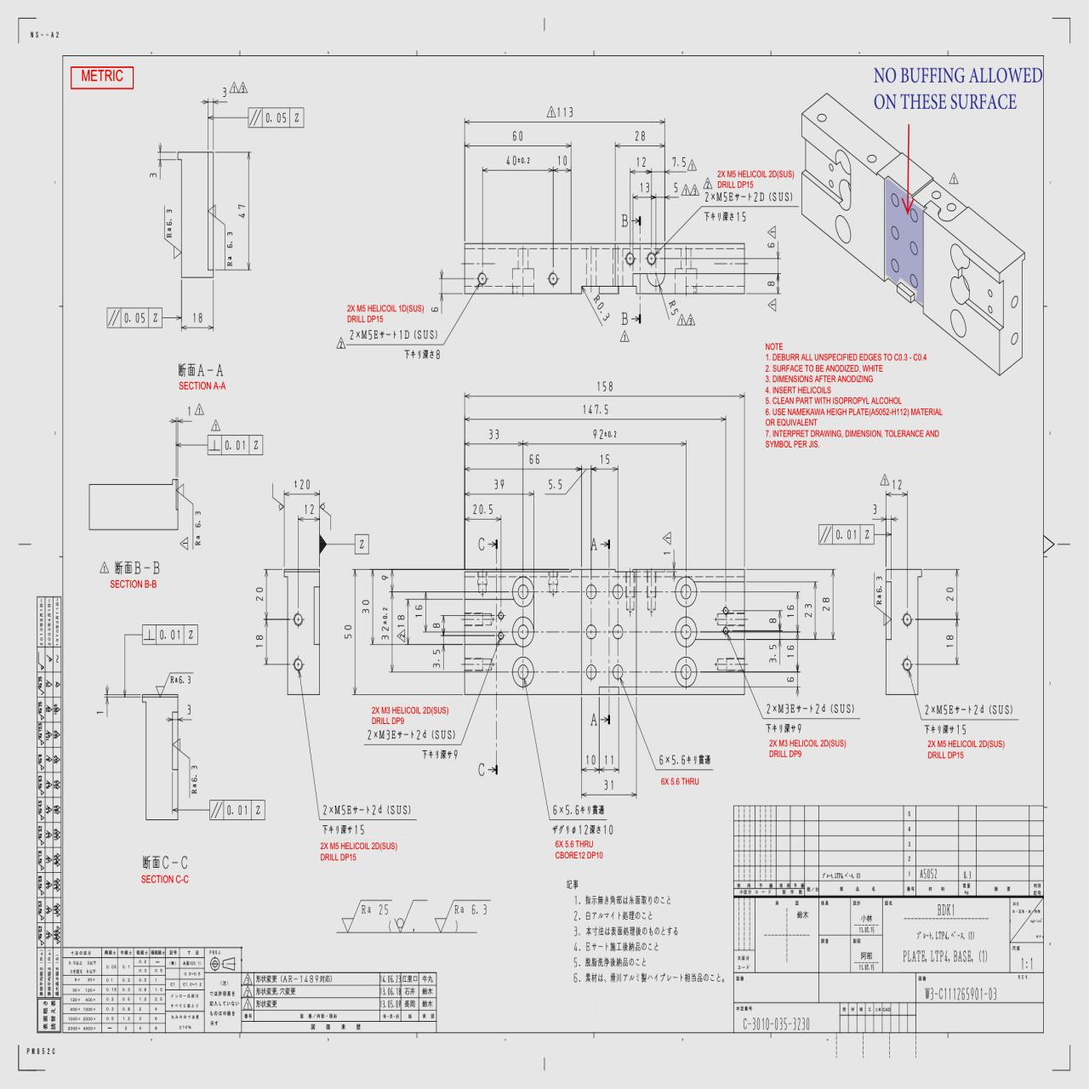basic_dimension: (506, 154, 530, 166), (583, 404, 608, 415), (593, 429, 617, 439), (473, 504, 493, 515), (382, 607, 388, 641), (598, 381, 613, 393), (769, 644, 778, 663), (558, 107, 573, 118), (237, 203, 246, 219), (549, 478, 562, 489), (672, 157, 686, 167), (255, 587, 264, 602), (433, 649, 440, 668), (254, 634, 264, 647), (604, 778, 614, 791), (362, 599, 370, 615), (193, 312, 203, 324), (344, 624, 352, 639), (946, 587, 954, 602), (822, 597, 830, 612), (586, 754, 596, 766), (489, 428, 499, 440), (787, 644, 795, 658), (787, 604, 795, 618), (805, 603, 812, 619), (640, 182, 650, 193), (513, 130, 523, 141), (892, 479, 902, 490), (396, 615, 405, 627), (946, 634, 954, 647), (494, 479, 504, 489), (529, 454, 539, 464), (635, 131, 645, 141), (305, 504, 314, 515), (601, 454, 610, 465), (605, 753, 613, 765), (415, 605, 422, 618), (637, 157, 646, 167), (558, 156, 567, 166), (222, 86, 227, 98), (787, 676, 794, 684), (430, 307, 439, 313), (187, 704, 191, 716), (769, 618, 777, 624), (767, 242, 775, 248), (149, 173, 157, 178), (674, 182, 678, 192), (767, 281, 775, 286), (873, 504, 877, 514), (433, 622, 439, 628), (188, 405, 191, 416), (382, 575, 388, 580), (664, 552, 670, 556), (97, 711, 104, 714)
datum_symbol: (319, 533, 369, 555)
dimension_chamfer_symbol: (477, 535, 487, 553), (477, 762, 485, 779)
dimension_diameter_symbol: (571, 825, 588, 837)
dimension_metric_symbol: (361, 329, 368, 341), (777, 702, 784, 713), (936, 704, 943, 714), (334, 804, 340, 815), (379, 730, 385, 740), (716, 192, 721, 202)
dimension_radius_symbol: (592, 293, 611, 322), (667, 297, 679, 317)
dimension_thickness_symbol: (293, 479, 310, 489)
gdt_frame_symbol: (246, 104, 306, 131), (208, 797, 267, 822), (207, 433, 265, 456), (106, 307, 164, 329), (142, 624, 200, 646), (818, 523, 875, 545)
gdt_parallelism_symbol: (819, 526, 832, 543), (108, 309, 120, 327), (211, 801, 223, 819), (249, 109, 261, 126)
gdt_perpendicularity_symbol: (209, 440, 220, 451), (144, 630, 155, 640)
revision_triangle_symbol: (194, 402, 205, 415), (619, 330, 630, 342), (210, 419, 221, 431), (690, 183, 700, 196), (336, 336, 346, 349), (767, 225, 776, 239), (767, 298, 776, 312), (179, 537, 188, 551), (396, 629, 405, 643), (662, 531, 671, 545), (949, 172, 959, 184), (676, 313, 686, 325), (686, 313, 696, 325), (703, 177, 713, 189), (687, 159, 697, 171), (238, 81, 248, 93), (229, 81, 239, 93), (99, 561, 109, 573), (880, 473, 890, 485), (681, 183, 690, 196), (546, 106, 556, 117)
surface_finish_symbol: (207, 204, 234, 270), (175, 483, 202, 549), (342, 900, 392, 933), (172, 738, 197, 798), (873, 572, 892, 626), (155, 672, 194, 698), (164, 205, 182, 260), (272, 483, 285, 512), (319, 502, 331, 530)
